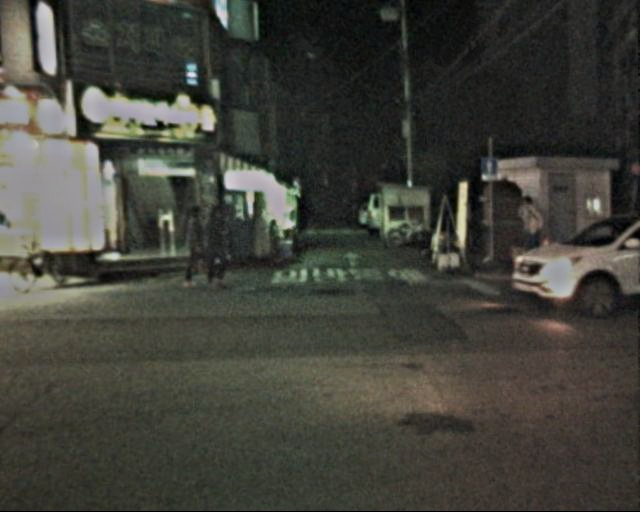person: (192, 204, 235, 294), (511, 196, 547, 288), (178, 201, 213, 288)
